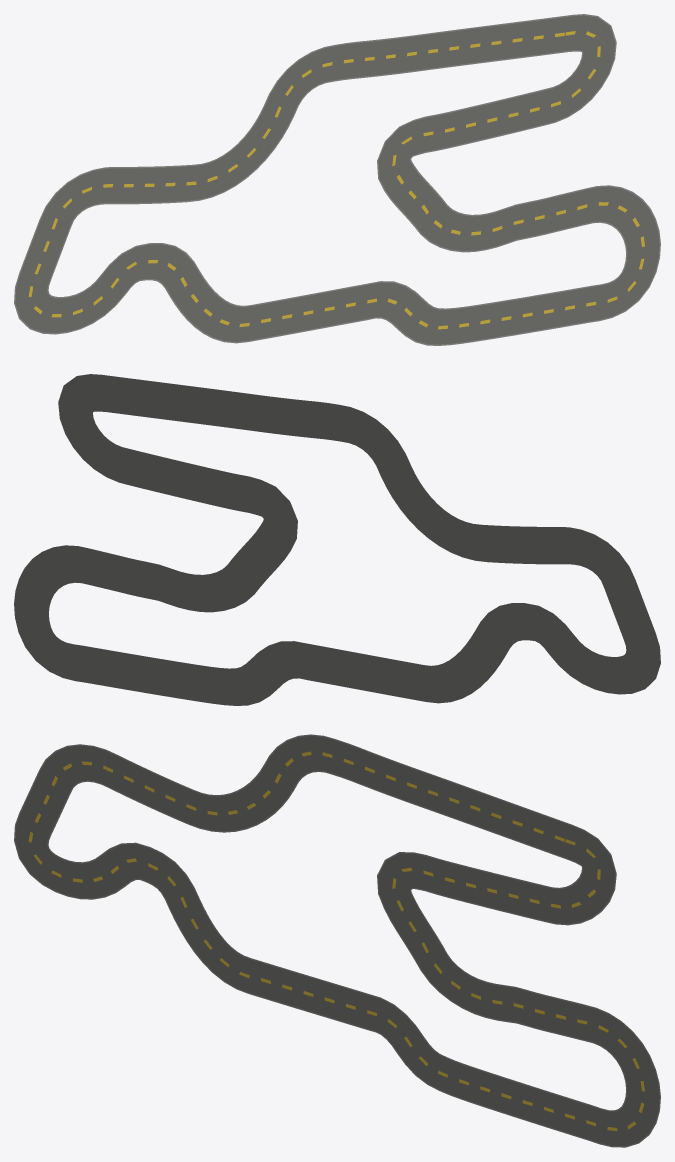
File: track.obj
3 renders of one model, top to bottom at view 1: azimuth 30°, elevation 25°; view 2: azimuth 150°, elevation 25°; view 3: azimuth 330°, elevation 25°, orthographic.
Size of the model in its own units: 19.79 by 9.98 by 0.002.
